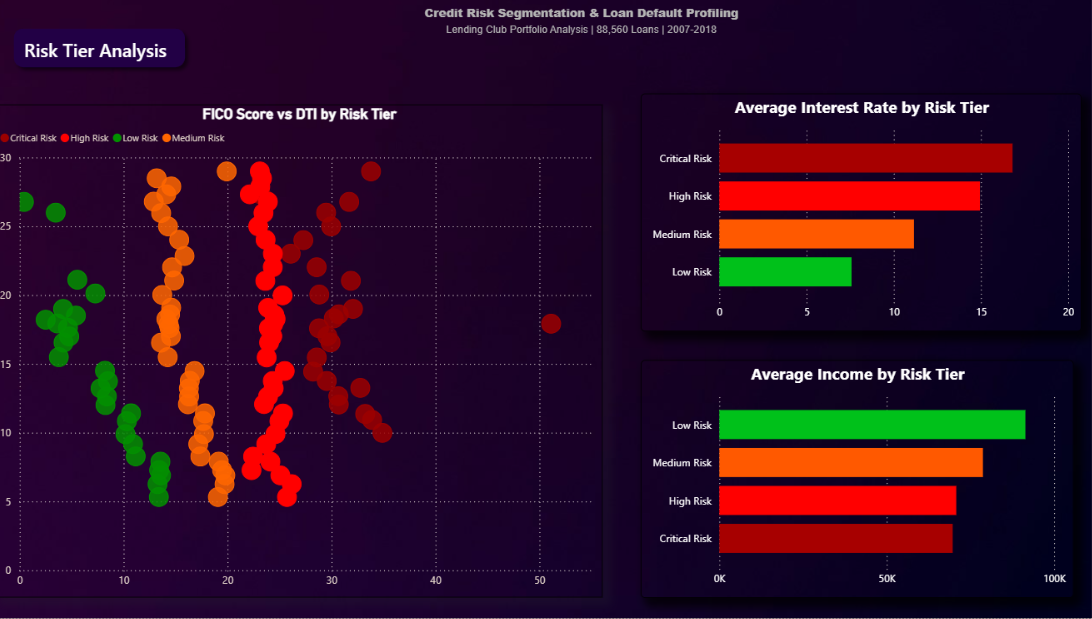

The page's visual inventory and layout, read from the dashboard file:
{"tool":"powerbi","page":{"name":"Risk Tier Analysis","canvas":[1280,720],"ordinal":1},"visuals":[{"type":"textbox","box":[456,0,454.7,88],"z":0},{"type":"clusteredBarChart","title":"Average Income by Risk Tier","fields":{"Category":["tier_profile.risk_tier"],"Y":["Sum(tier_profile.avg_annual_income)"]},"box":[752,420,504,277.3],"z":1000},{"type":"shape","box":[12.2,24.4,217.8,63.3],"z":2000},{"type":"textbox","box":[28.7,38,192.2,42.2],"z":3000},{"type":"clusteredBarChart","title":"Average Interest Rate by Risk Tier","fields":{"Category":["tier_profile.risk_tier"],"Y":["Sum(tier_profile.avg_interest_rate)"]},"box":[752,109.3,513.3,277.3],"z":4000},{"type":"scatterChart","title":"FICO Score vs DTI by Risk Tier","fields":{"X":["Avg(loans_scored_full.dti)"],"Y":["Avg(loans_scored_full.int_rate)"],"Series":["loans_scored_full.risk_tier"],"Category":["loans_scored_full.sub_grade"]},"box":[0,122.7,708,574.7],"z":5000}]}

Visuals, with their boxes in screenshot pixels (x1, y1, x2, y2), scaled from the page's 1280x720 canvas onto the 1092x619 screenshot:
textbox: <box>389,0,777,76</box>
"Average Income by Risk Tier" clusteredBarChart: <box>642,361,1072,599</box>
shape: <box>10,21,196,75</box>
textbox: <box>24,33,188,69</box>
"Average Interest Rate by Risk Tier" clusteredBarChart: <box>642,94,1079,332</box>
"FICO Score vs DTI by Risk Tier" scatterChart: <box>0,105,604,600</box>
